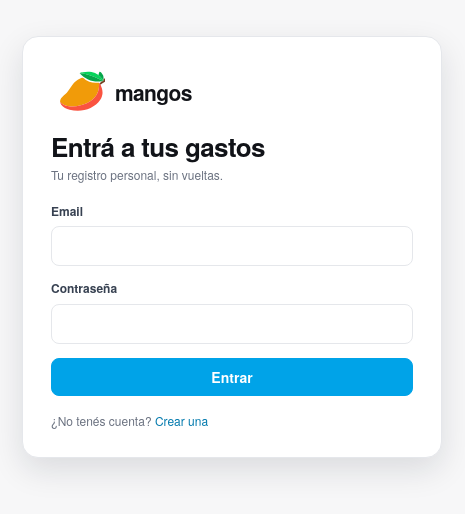
Test: vistas de autenticación › LoginView muestra el error del backend
Type "ana@mail.com" into the field labelled "Email" at (232, 246), box [51, 226, 413, 266]
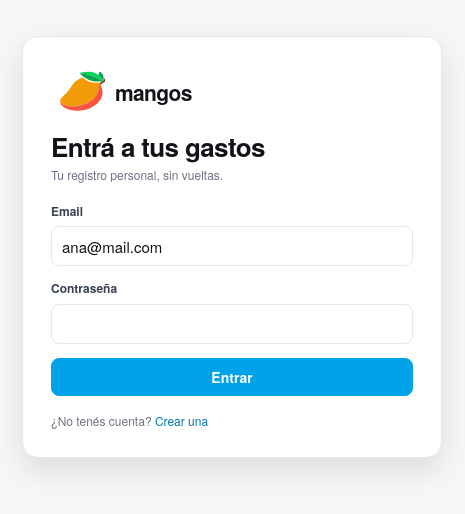
Type "mal" into the password field labelled "Contraseña" at (232, 324), box [51, 304, 413, 344]
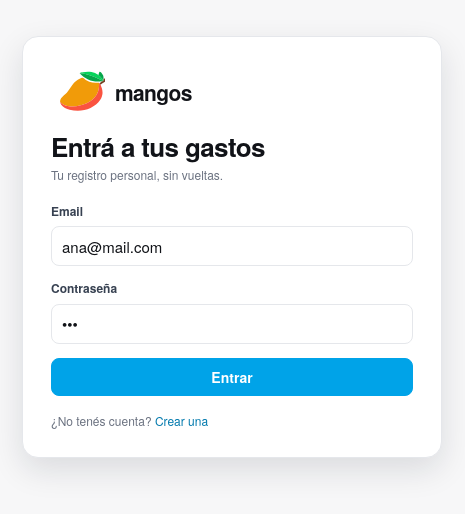
Click the button "Entrar" at (232, 377), box [51, 358, 413, 396]
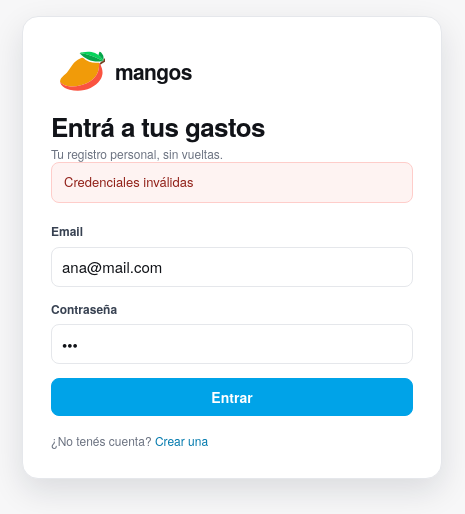
Expected: the message reads "Credenciales inválidas", [64, 172, 194, 192]
